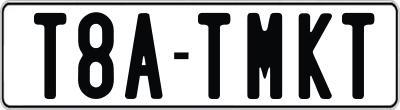8: (76, 12, 112, 101)
A: (125, 12, 163, 103)
K: (299, 12, 333, 100)
M: (244, 12, 285, 98)
T: (198, 10, 236, 102), (339, 13, 377, 99), (31, 10, 65, 99)
